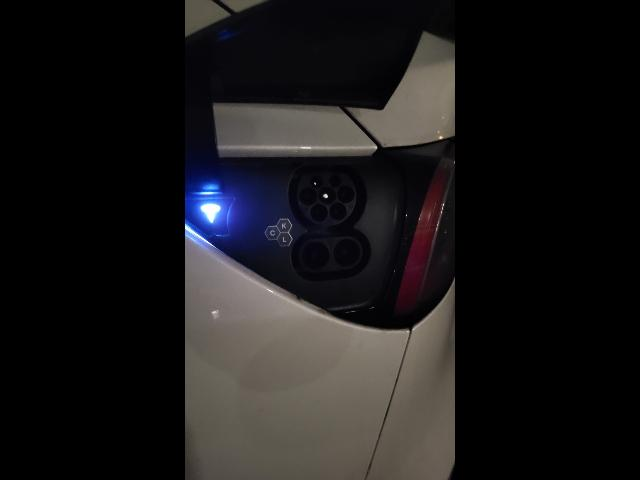inlet: (297, 172, 357, 226)
inlet-above-left: (310, 176, 323, 188)
inlet-above-right: (329, 175, 342, 188)
inlet-below-left: (310, 203, 328, 221)
inlet-below-right: (329, 202, 347, 220)
inlet-circle: (319, 186, 336, 204)
inlet-circle-left: (299, 187, 317, 205)
inlet-circle-right: (337, 185, 354, 203)
inlet-minus: (333, 239, 361, 267)
inlet-plus: (302, 242, 329, 270)
